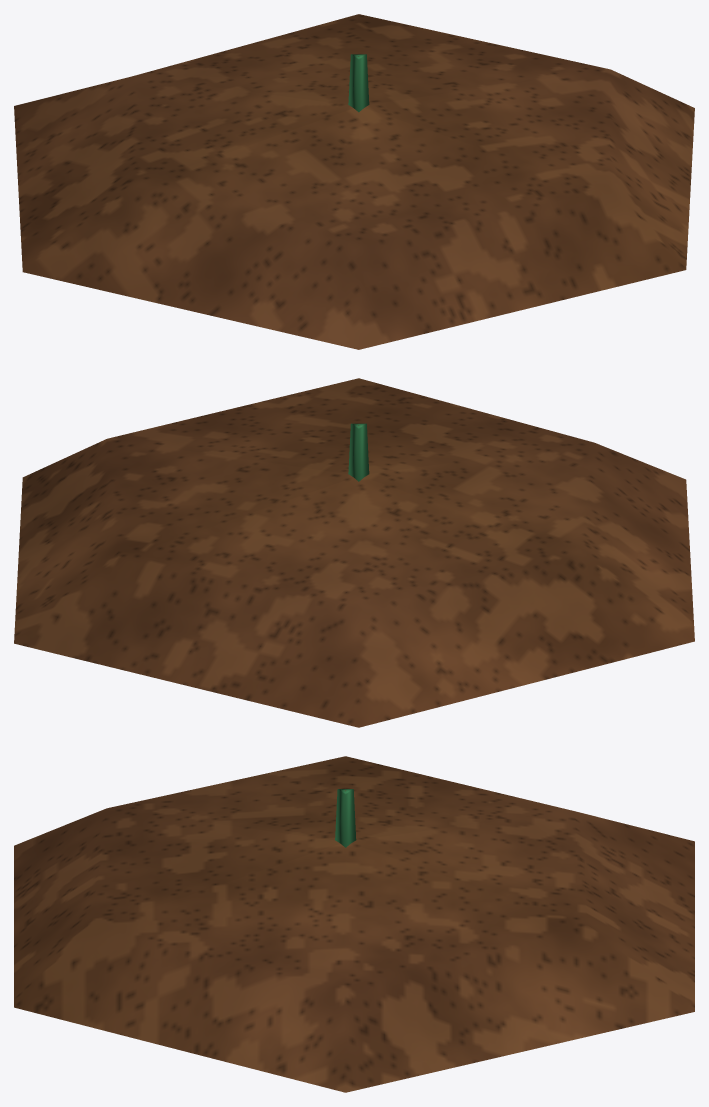
File: plant-blueberry-0-far.glb
3 renders of one model, top to bottom at view 1: azimuth 30°, elevation 25°; view 2: azimuth 150°, elevation 25°; view 3: azimuth 270°, elevation 25°, orthographic.
Parts seen in each view (by area): view 1: plant-blueberry-0-far; view 2: plant-blueberry-0-far; view 3: plant-blueberry-0-far.
Boxes of the visible parts, bbox=[...] form: plant-blueberry-0-far: bbox=[14, 14, 694, 349]; plant-blueberry-0-far: bbox=[14, 378, 694, 727]; plant-blueberry-0-far: bbox=[14, 756, 694, 1092].
Bounding box in the file's own units: 0.84 × 0.16 × 0.7275.
Materials: 2 (1 with a texture image).
